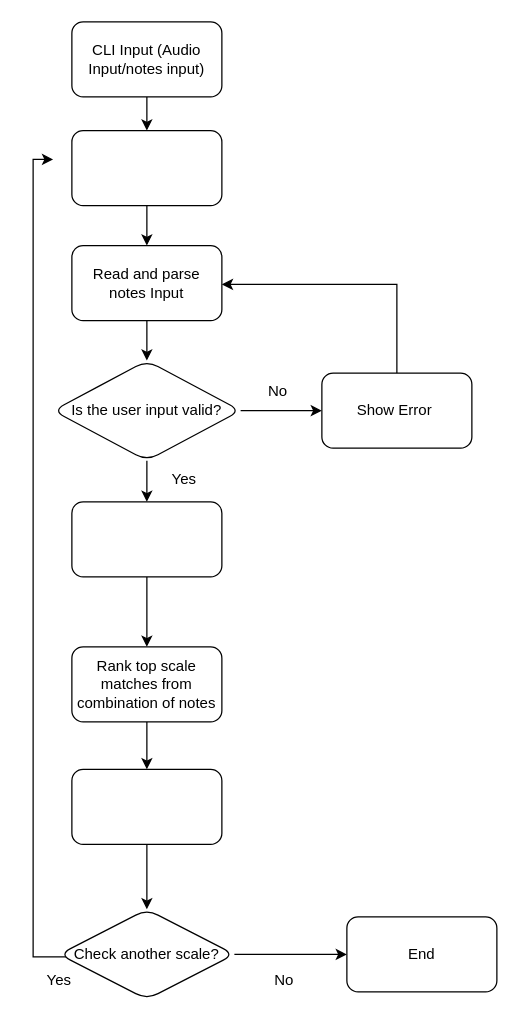
The diagram is 519 pixels wide and 1021 high, and some of its shapes have lost their labels. Here are the shapes that lost their labels. From the top down, the centre of each, then its label:
At point (146, 167): "Load scale Database".
At point (146, 539): "Match notes with different scales (ragas)".
At point (146, 806): "Print out top 5 matches".
